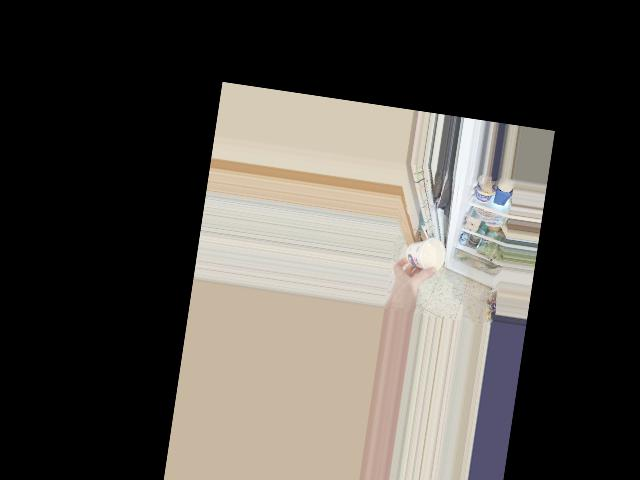cotage: (405, 237, 446, 273)
